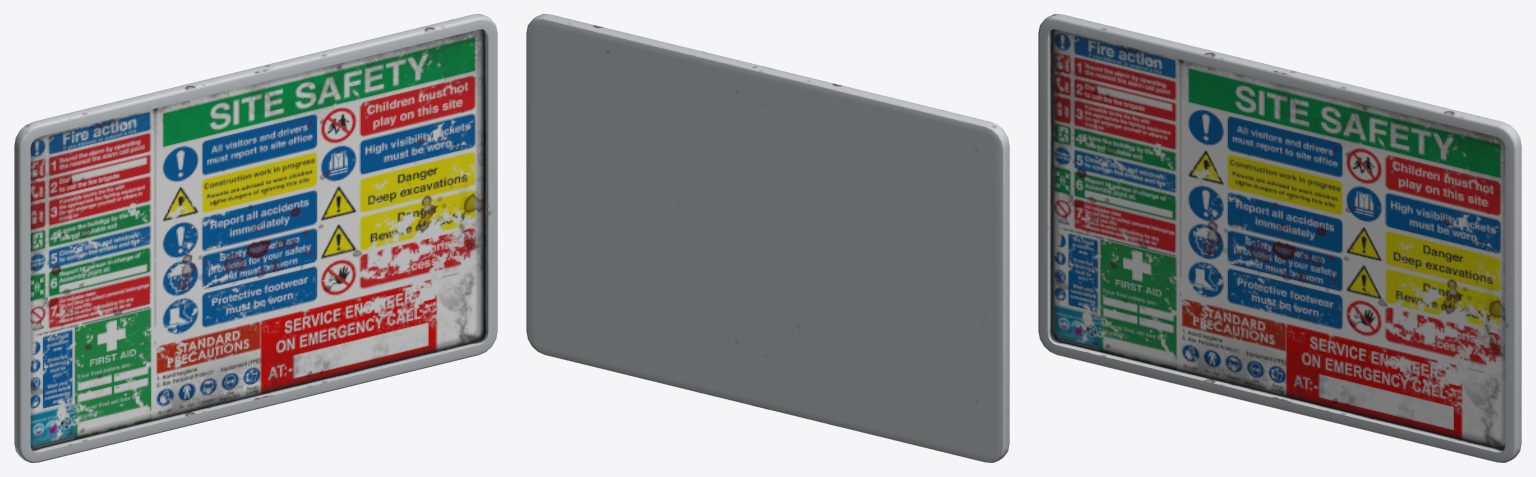
3 views of the same model, side by side, from view 1: azimuth 30°, elevation 25°; view 2: azimuth 150°, elevation 25°; view 3: azimuth 330°, elevation 25° (orthographic).
Visible parts, largest first — view 1: SM_poster_board_1; view 2: SM_poster_board_1; view 3: SM_poster_board_1.
Boxes of the visible parts, x1,y1,x2,y2 form: SM_poster_board_1: (14,14,497,462); SM_poster_board_1: (526,14,1009,462); SM_poster_board_1: (1038,14,1521,462).
Size of the model in its own units: 163 by 110 by 3.97.
1 material, 1 textured.
